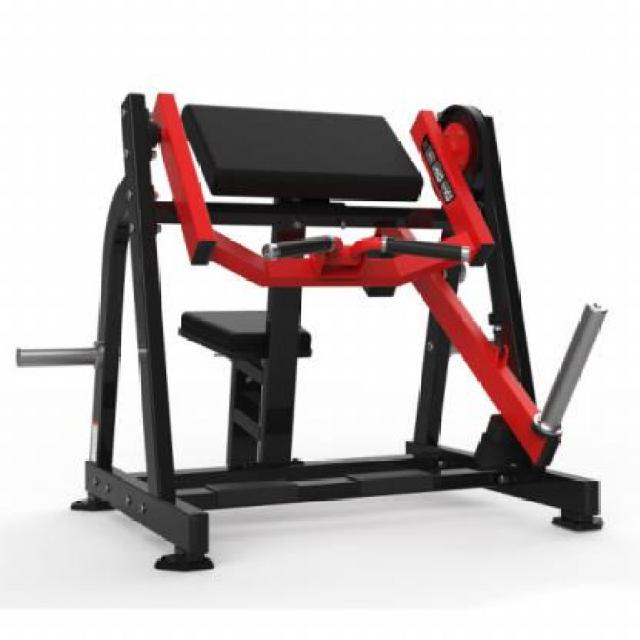arm curl machine: (20, 91, 608, 574)
